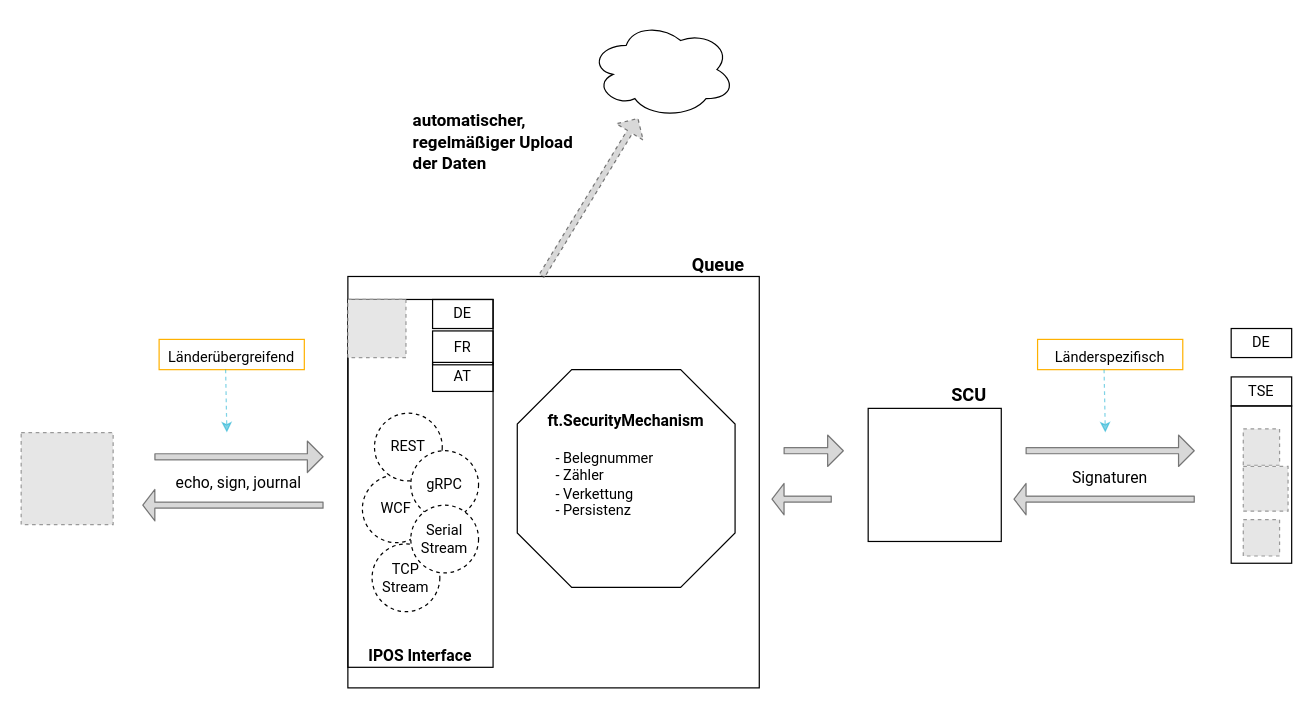
The diagram is 1313 pixels wide and 709 high, and some of its shapes have lost their labels. Grey dashed boxes stand in for pictures. The shapes that lost their labels are listed below. From the top down, each one's centre as x and y in pixels, then its label:
At [662,69]: "ft.Cloud".
At [934,474]: "(Signatur-estellungs-einheit".
